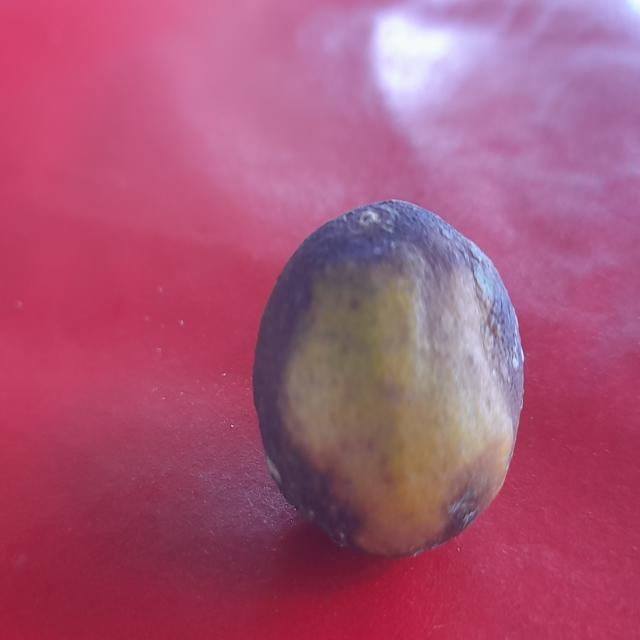black spot: (218, 191, 508, 568)
